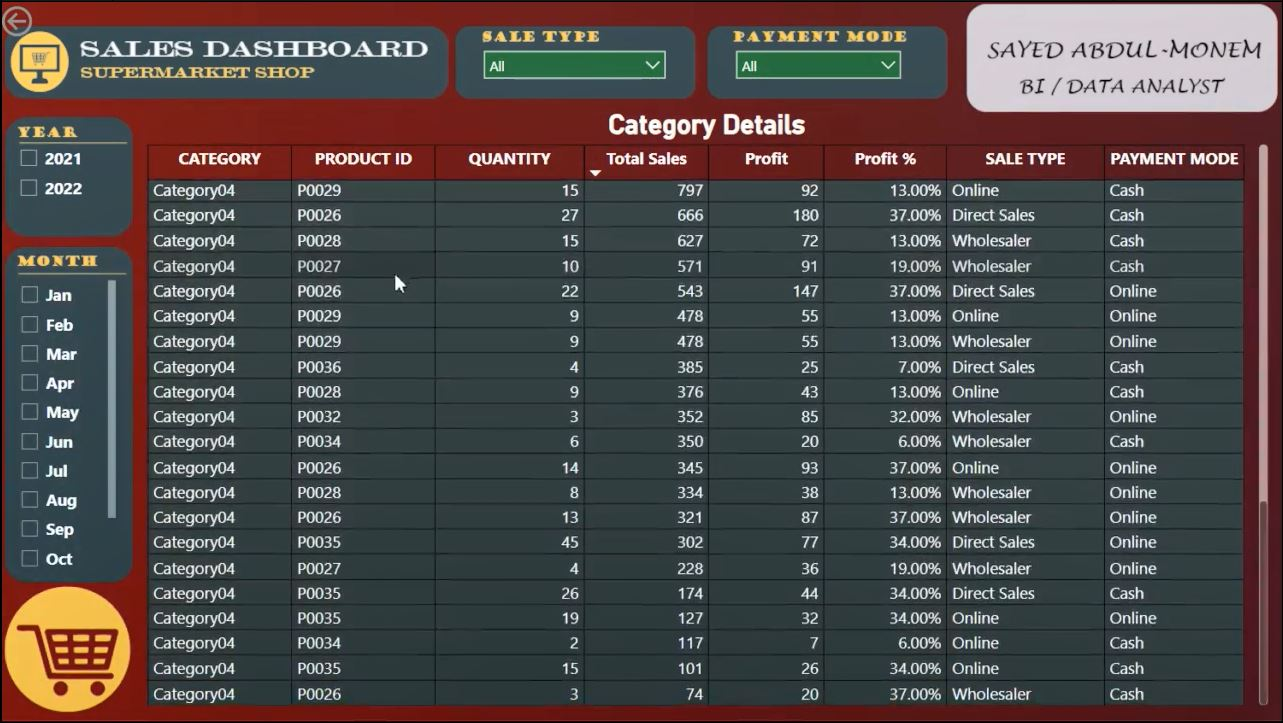

What the dashboard file says about the page in this screenshot:
{"tool":"powerbi","page":{"name":"Category Orders details","canvas":[1280,720],"ordinal":1},"visuals":[{"type":"tableEx","title":"Category Details","fields":{"Values":["InputData.MasterData.CATEGORY","InputData.PRODUCT ID","Sum(InputData.QUANTITY)","Sum(InputData.Total Selling Value)","InputData.Profit","InputData.Profit %","InputData.SALE TYPE","InputData.PAYMENT MODE"]},"box":[142.9,106.9,1122.4,597.2],"z":0},{"type":"actionButton","box":[0,0,100,40],"z":1000},{"type":"slicer","title":"YEAR","fields":{"Values":["InputData.Year"]},"box":[11,136.3,111,90.1],"z":2000},{"type":"slicer","title":"PAYMENT MODE","fields":{"Values":["InputData.PAYMENT MODE"]},"box":[723.3,39.6,183.6,49.5],"z":3000},{"type":"slicer","title":"Month","fields":{"Values":["InputData.Month Name"]},"box":[12.1,272.6,111,296.8],"z":4000},{"type":"slicer","title":"SALE TYPE","fields":{"Values":["InputData.SALE TYPE"]},"box":[472.7,39.6,200.1,48.4],"z":5000}]}

Visuals, with their boxes in screenshot pixels (x1, y1, x2, y2), scaled from the page's 1280x720 canvas onto the 1283x723 screenshot:
"Category Details" tableEx: {"left": 143, "top": 107, "right": 1268, "bottom": 707}
actionButton: {"left": 0, "top": 0, "right": 100, "bottom": 40}
"YEAR" slicer: {"left": 11, "top": 137, "right": 122, "bottom": 227}
"PAYMENT MODE" slicer: {"left": 725, "top": 40, "right": 909, "bottom": 89}
"Month" slicer: {"left": 12, "top": 274, "right": 123, "bottom": 572}
"SALE TYPE" slicer: {"left": 474, "top": 40, "right": 674, "bottom": 88}
